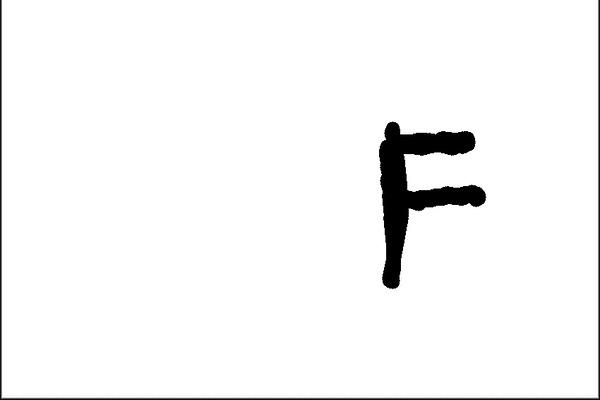F: (373, 117, 488, 294)
